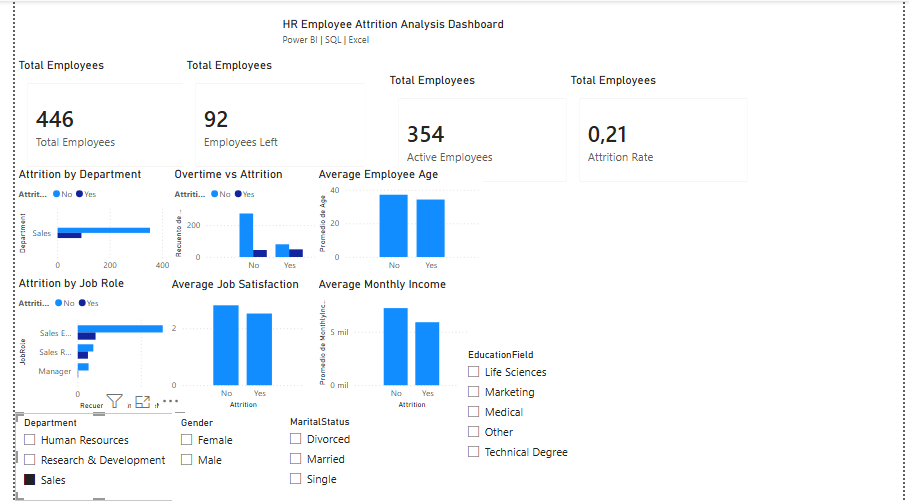

What the dashboard file says about the page in this screenshot:
{"tool":"powerbi","page":{"name":"Página 1","canvas":[1280,720],"ordinal":0},"visuals":[{"type":"cardVisual","title":"Total Employees","fields":{"Data":["WA_Fn-UseC_-HR-Employee-Attrition.Total Employees"]},"box":[0,82.3,278.8,174.7],"z":0},{"type":"cardVisual","title":"Total Employees","fields":{"Data":["WA_Fn-UseC_-HR-Employee-Attrition.Employees Left"]},"box":[241.9,82.3,280.5,174.7],"z":1000},{"type":"cardVisual","title":"Total Employees","fields":{"Data":["WA_Fn-UseC_-HR-Employee-Attrition.Active Employees"]},"box":[534.2,104.1,278.8,174.7],"z":2000},{"type":"cardVisual","title":"Total Employees","fields":{"Data":["WA_Fn-UseC_-HR-Employee-Attrition.Attrition Rate"]},"box":[794.5,104.1,278.8,174.7],"z":3000},{"type":"clusteredBarChart","title":"Attrition by Department","fields":{"Category":["WA_Fn-UseC_-HR-Employee-Attrition.Department"],"Series":["WA_Fn-UseC_-HR-Employee-Attrition.Attrition"],"Y":["CountNonNull(WA_Fn-UseC_-HR-Employee-Attrition.EmployeeNumber)"]},"box":[0,238.5,226.8,159.6],"z":4000},{"type":"clusteredBarChart","title":"Attrition by Job Role","fields":{"Series":["WA_Fn-UseC_-HR-Employee-Attrition.Attrition"],"Y":["CountNonNull(WA_Fn-UseC_-HR-Employee-Attrition.EmployeeNumber)"],"Category":["WA_Fn-UseC_-HR-Employee-Attrition.JobRole"]},"box":[0,396.4,241.9,196.5],"z":4001},{"type":"clusteredColumnChart","title":"Overtime vs Attrition","fields":{"Category":["WA_Fn-UseC_-HR-Employee-Attrition.OverTime"],"Y":["CountNonNull(WA_Fn-UseC_-HR-Employee-Attrition.EmployeeNumber)"],"Series":["WA_Fn-UseC_-HR-Employee-Attrition.Attrition"]},"box":[225.1,238.5,243.6,159.6],"z":4002},{"type":"clusteredColumnChart","title":"Average Job Satisfaction","fields":{"Category":["WA_Fn-UseC_-HR-Employee-Attrition.Attrition"],"Y":["Avg(WA_Fn-UseC_-HR-Employee-Attrition.JobSatisfaction)"]},"box":[220.1,398.1,199.9,194.9],"z":4003},{"type":"clusteredColumnChart","title":"Average Monthly Income","fields":{"Category":["WA_Fn-UseC_-HR-Employee-Attrition.Attrition"],"Y":["Avg(WA_Fn-UseC_-HR-Employee-Attrition.MonthlyIncome)"]},"box":[431.7,398.1,226.8,194.9],"z":4004},{"type":"clusteredColumnChart","title":"Average Employee Age","fields":{"Category":["WA_Fn-UseC_-HR-Employee-Attrition.Attrition"],"Y":["Avg(WA_Fn-UseC_-HR-Employee-Attrition.Age)"]},"box":[431.7,238.5,241.9,159.6],"z":4005},{"type":"slicer","fields":{"Values":["WA_Fn-UseC_-HR-Employee-Attrition.Department"]},"box":[0,593,243.6,127.7],"z":4006},{"type":"slicer","fields":{"Values":["WA_Fn-UseC_-HR-Employee-Attrition.Gender"]},"box":[226.8,593,221.7,127.7],"z":4007},{"type":"slicer","fields":{"Values":["WA_Fn-UseC_-HR-Employee-Attrition.EducationField"]},"box":[640,495.5,243.6,225.1],"z":4008},{"type":"slicer","fields":{"Values":["WA_Fn-UseC_-HR-Employee-Attrition.MaritalStatus"]},"box":[383,591.3,233.5,129.3],"z":4009},{"type":"textbox","title":"HR Employee Attrition Analysis Dashboard","box":[379.6,23.5,364.5,80.6],"z":4010}]}

Visuals, with their boxes in screenshot pixels (x1, y1, x2, y2), scaled from the page's 1280x720 canvas onto the 909x501 screenshot:
"Total Employees" cardVisual: left=0, top=57, right=198, bottom=179
"Total Employees" cardVisual: left=172, top=57, right=371, bottom=179
"Total Employees" cardVisual: left=379, top=72, right=577, bottom=194
"Total Employees" cardVisual: left=564, top=72, right=762, bottom=194
"Attrition by Department" clusteredBarChart: left=0, top=166, right=161, bottom=277
"Attrition by Job Role" clusteredBarChart: left=0, top=276, right=172, bottom=413
"Overtime vs Attrition" clusteredColumnChart: left=160, top=166, right=333, bottom=277
"Average Job Satisfaction" clusteredColumnChart: left=156, top=277, right=298, bottom=413
"Average Monthly Income" clusteredColumnChart: left=307, top=277, right=468, bottom=413
"Average Employee Age" clusteredColumnChart: left=307, top=166, right=478, bottom=277
slicer - WA_Fn-UseC_-HR-Employee-Attrition.Department: left=0, top=413, right=173, bottom=500
slicer - WA_Fn-UseC_-HR-Employee-Attrition.Gender: left=161, top=413, right=319, bottom=500
slicer - WA_Fn-UseC_-HR-Employee-Attrition.EducationField: left=454, top=345, right=627, bottom=500
slicer - WA_Fn-UseC_-HR-Employee-Attrition.MaritalStatus: left=272, top=411, right=438, bottom=500
"HR Employee Attrition Analysis Dashboard" textbox: left=270, top=16, right=528, bottom=72
